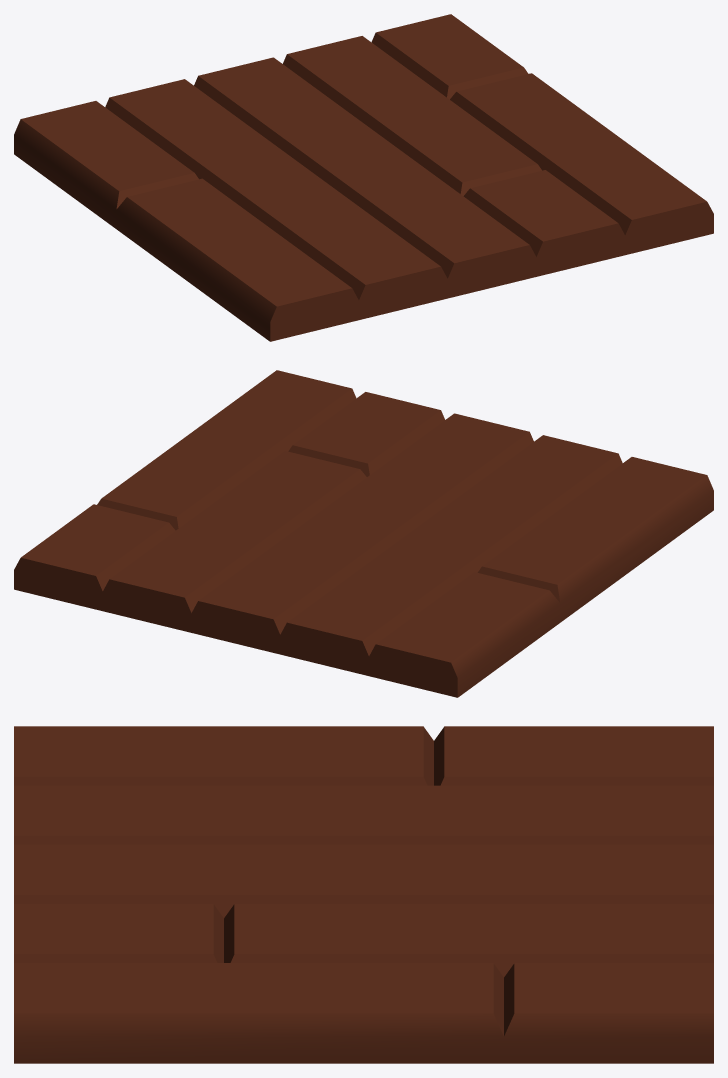
Rendered from Wood_Floor_2.fbx.
The picture shows the model from 3 angles, top to bottom: view 1: azimuth 30°, elevation 25°; view 2: azimuth 150°, elevation 25°; view 3: azimuth 270°, elevation 25°; orthographic projection. The views are drawn at different scales.
Parts seen in each view (by area): view 1: Wood_Floor_3_LOD0; view 2: Wood_Floor_3_LOD0; view 3: Wood_Floor_3_LOD0.
Boxes of the visible parts, x1,y1,x2,y2 form: Wood_Floor_3_LOD0: (14,14,713,341); Wood_Floor_3_LOD0: (14,370,713,697); Wood_Floor_3_LOD0: (14,726,713,1063).
Size of what is drawn, in the model's own units: 0.01 by 0.000724 by 0.01.
